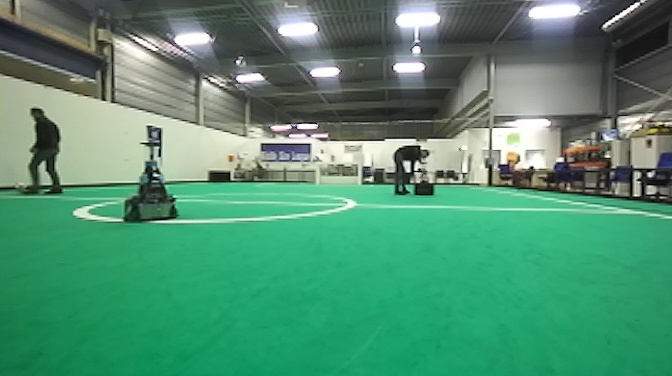ball: (12, 179, 28, 192)
goal: (314, 161, 363, 188)
goalpost: (314, 161, 321, 188), (356, 160, 363, 187)
human: (19, 104, 68, 197), (391, 140, 434, 199)
robot: (119, 134, 184, 224), (413, 163, 438, 198)
